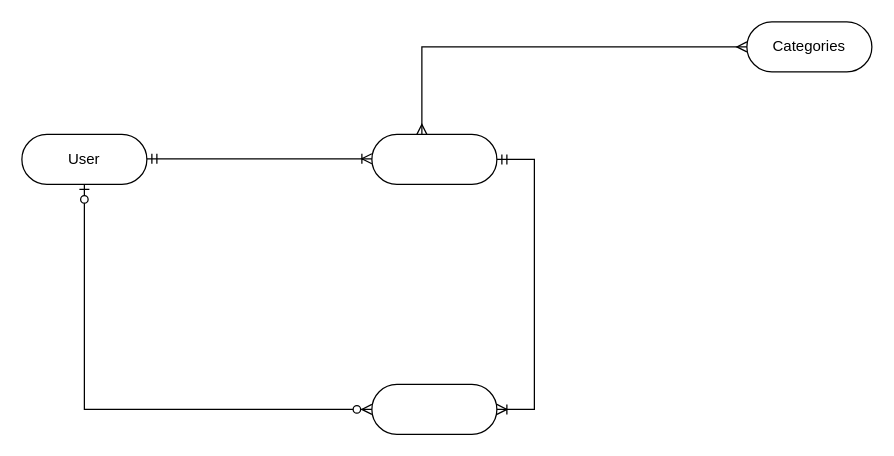
Some shapes in this 894 by 456 pixel diagram are drawn without their labels. The shapes that lost their labels are listed below. From the top down, each one's centre as x and y in pixels, then its label:
At pixel 434 158: "Aunction".
At pixel 434 408: "Bid".
